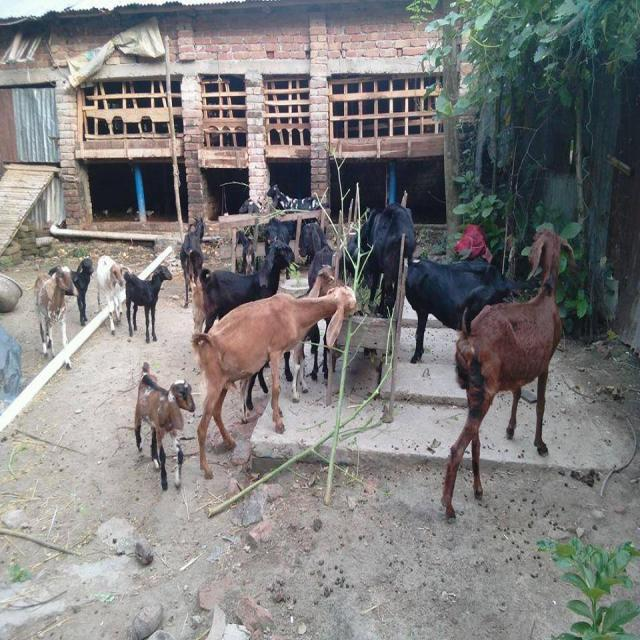Goat: (440, 228, 575, 520), (190, 273, 357, 479), (403, 256, 523, 364), (134, 361, 196, 491), (33, 264, 78, 370), (121, 263, 172, 343), (95, 253, 126, 335), (179, 215, 205, 308)
